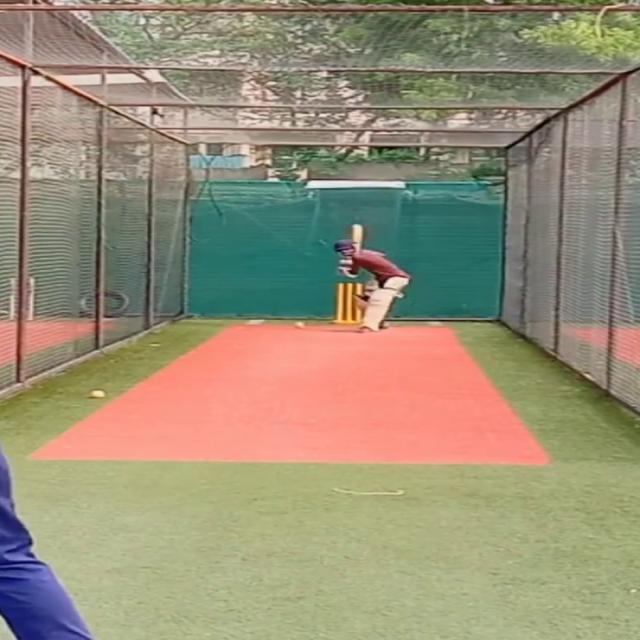ball: (88, 386, 108, 399), (292, 318, 310, 331)
stump: (333, 281, 362, 325)
